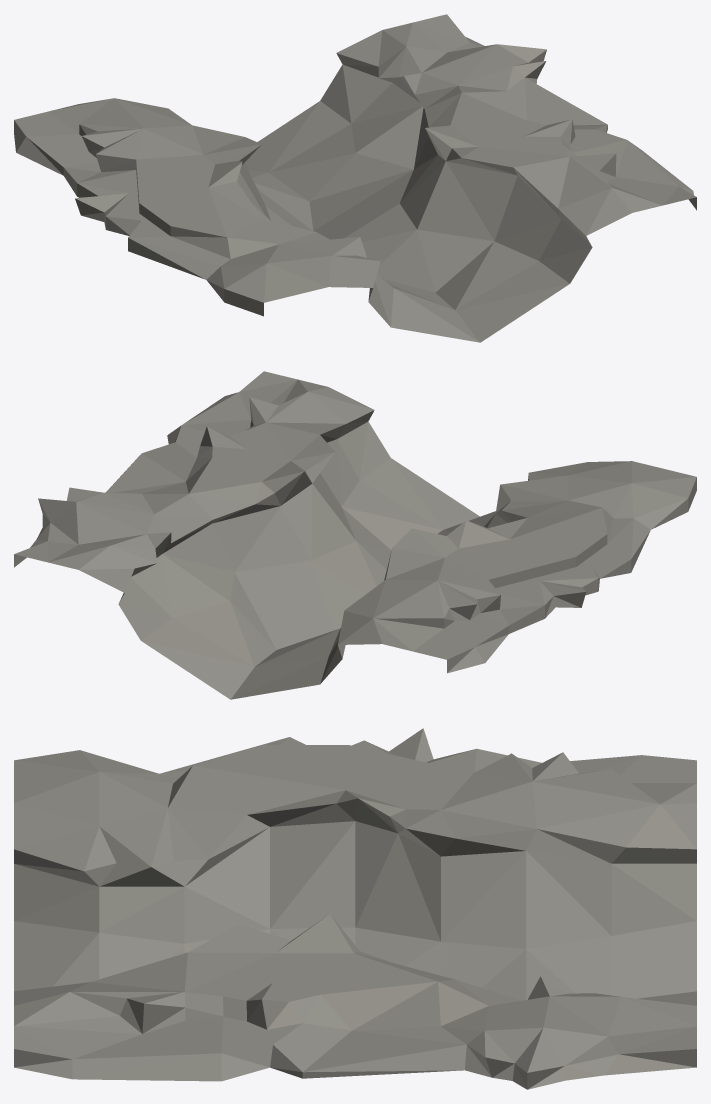
Rendered from river2.fbx.
3 renders of one model, top to bottom at view 1: azimuth 30°, elevation 25°; view 2: azimuth 150°, elevation 25°; view 3: azimuth 270°, elevation 25°, orthographic. The views are drawn at different scales.
Visible parts, largest first — view 1: river2; view 2: river2; view 3: river2.
Boxes of the visible parts, left/top/right/bottom form: river2: left=14, top=14, right=696, bottom=342; river2: left=14, top=371, right=696, bottom=699; river2: left=14, top=728, right=696, bottom=1089.
Bounding box in the file's own units: 589 × 128 × 500.
